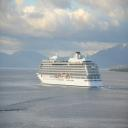cruises: (36, 52, 107, 91)
